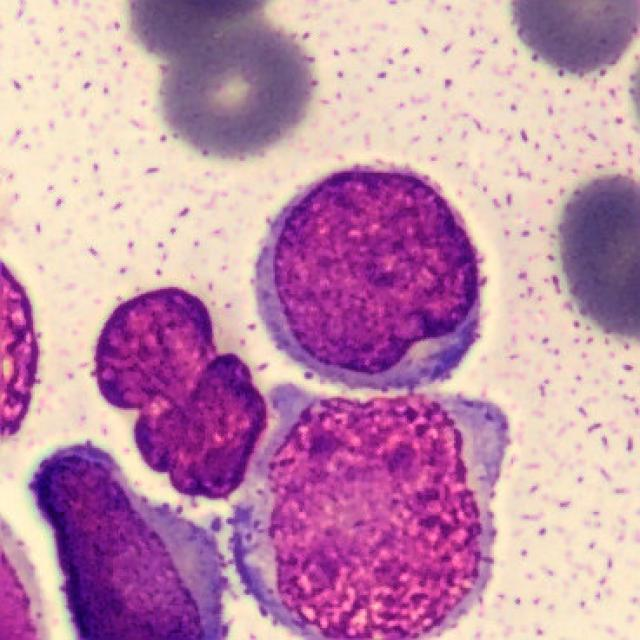Mieloblasto: (228, 384, 511, 640), (254, 168, 482, 393)
